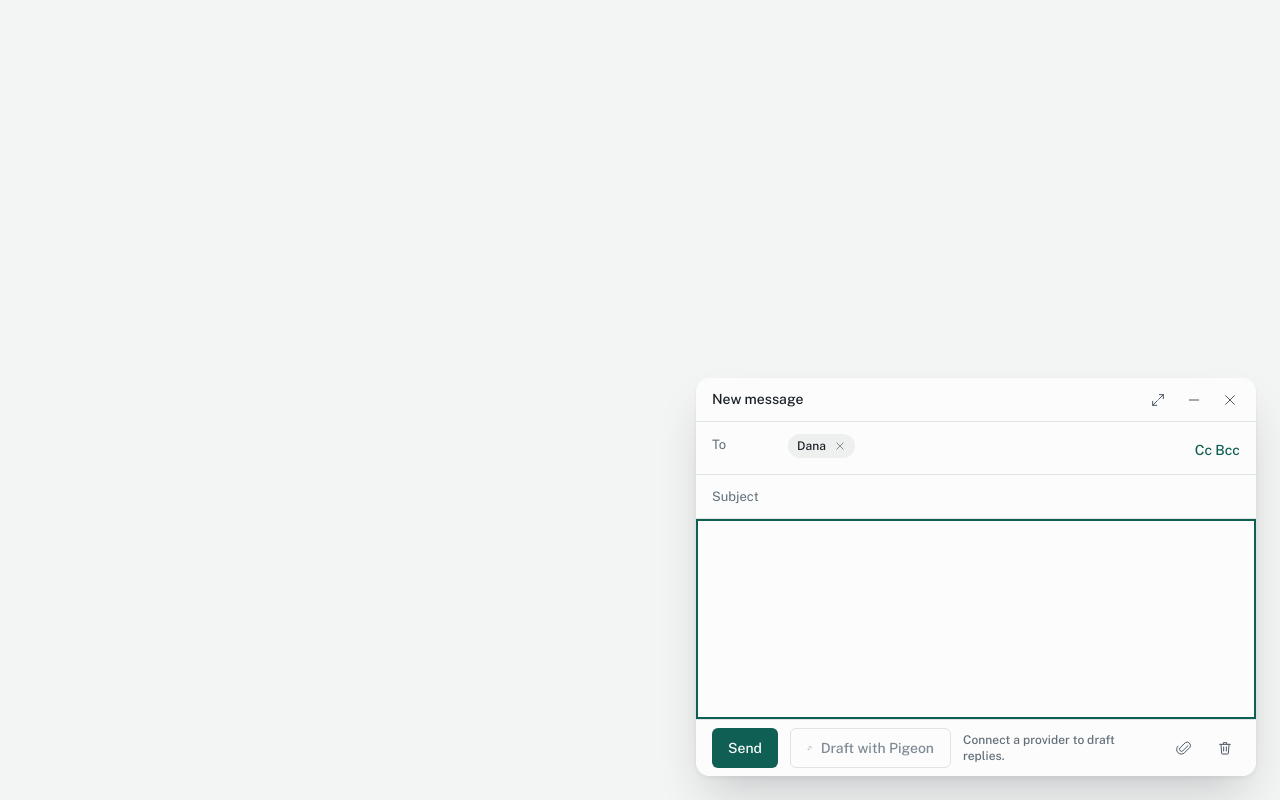
it: a failed send says what actually failed (§7.6) › reports being unable to reach Gmail as that
Click the button "Send": (745, 748) top-left (712, 728), bottom-right (778, 768)
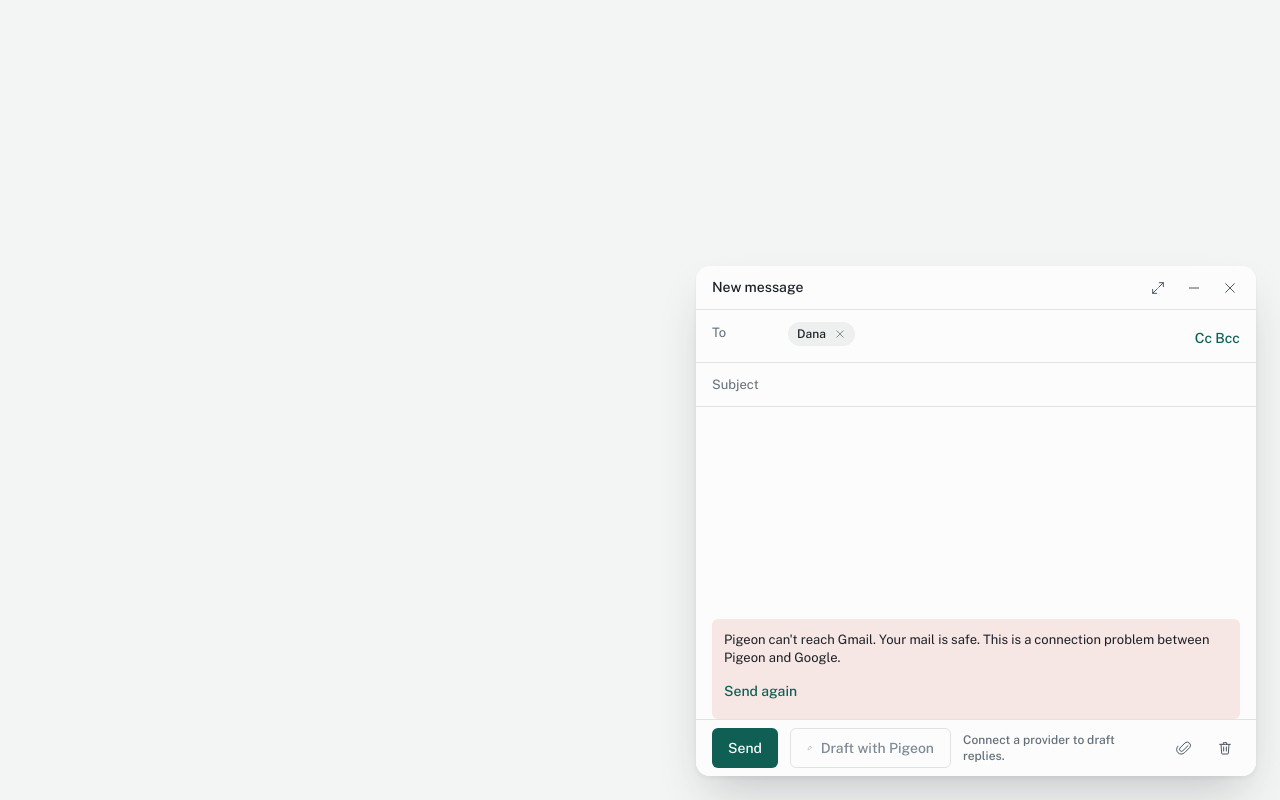
Expected: the message shows "can't reach Gmail", top-left (724, 632), bottom-right (1209, 665)
